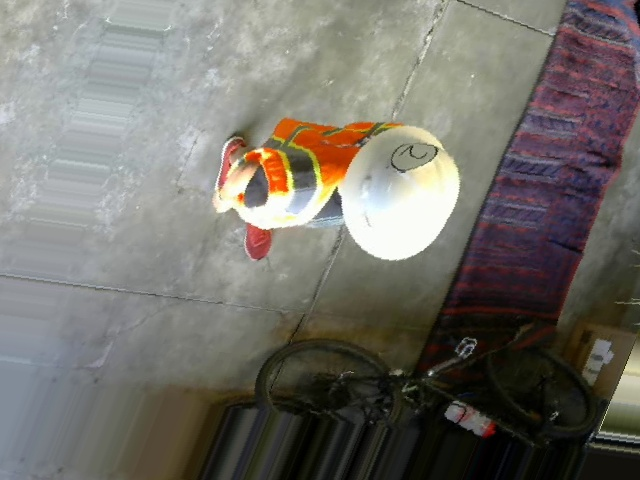two: (385, 139, 441, 175)
